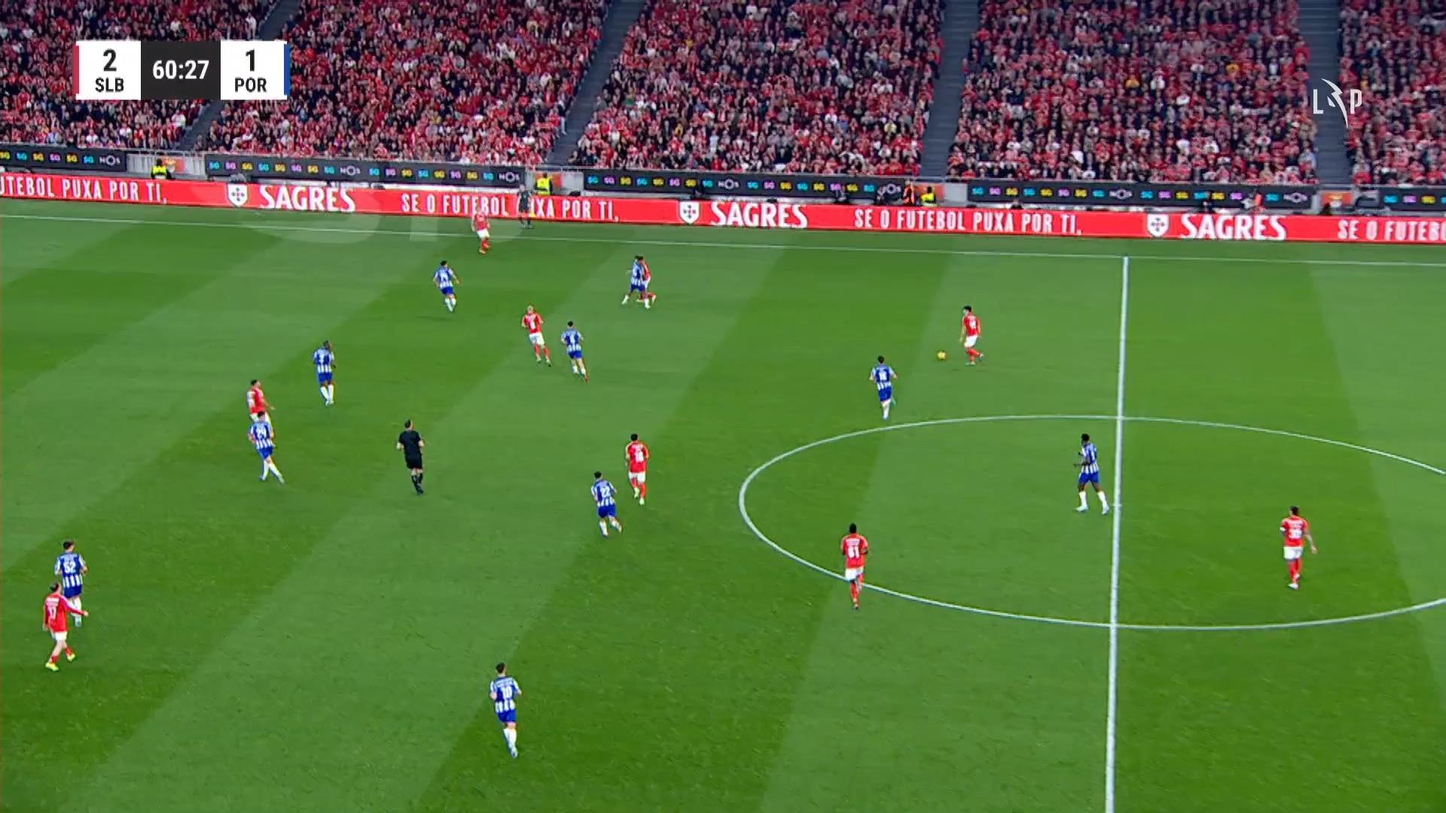ball: (936, 350, 946, 360)
player: (41, 581, 88, 671), (488, 662, 523, 759), (1278, 504, 1316, 589), (52, 538, 88, 626), (1072, 432, 1110, 515), (246, 410, 285, 483), (840, 522, 869, 610), (590, 470, 622, 537), (520, 304, 552, 367), (868, 355, 898, 420), (624, 432, 649, 505), (560, 319, 588, 382), (312, 339, 337, 406), (958, 304, 983, 366), (620, 257, 649, 309), (432, 259, 460, 312), (246, 378, 276, 425), (470, 208, 491, 254), (637, 255, 656, 304)
referee: (395, 419, 426, 495), (515, 184, 534, 229)
